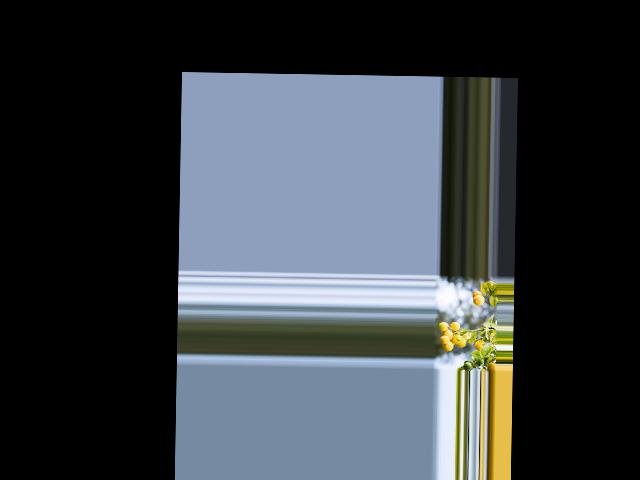lemon: (439, 340, 453, 351)
